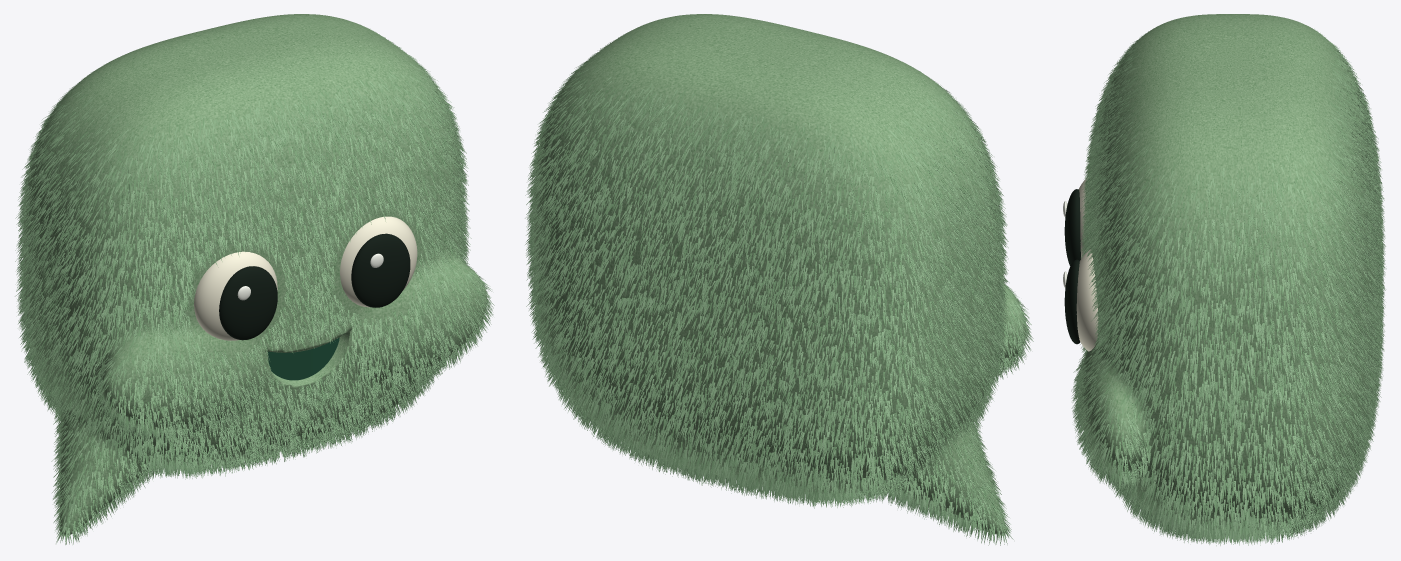
The model's file is mascot.glb.
3 renders of one model, left to right at view 1: azimuth 30°, elevation 25°; view 2: azimuth 150°, elevation 25°; view 3: azimuth 270°, elevation 25°, orthographic. The views are drawn at different scales.
Parts seen in each view (by area): view 1: Mascot • seamless body, Fur_Web, Pupil_R, Pupil_L, EyeWhite_L, EyeWhite_R, Smile; view 2: Mascot • seamless body, Fur_Web; view 3: Mascot • seamless body, Fur_Web, EyeWhite_R, Pupil_L, Pupil_R.
Boxes of the visible parts, bbox=[...] form: Mascot • seamless body: bbox=[23, 14, 487, 536]; Fur_Web: bbox=[15, 29, 494, 544]; Pupil_R: bbox=[351, 233, 410, 307]; Pupil_L: bbox=[219, 266, 277, 340]; EyeWhite_L: bbox=[194, 251, 277, 340]; EyeWhite_R: bbox=[340, 216, 417, 307]; Smile: bbox=[267, 337, 339, 380]; Mascot • seamless body: bbox=[534, 14, 1026, 535]; Fur_Web: bbox=[525, 31, 1033, 545]; Mascot • seamless body: bbox=[1079, 14, 1375, 531]; Fur_Web: bbox=[1071, 26, 1386, 545]; EyeWhite_R: bbox=[1076, 249, 1098, 351]; Pupil_L: bbox=[1064, 189, 1080, 265]; Pupil_R: bbox=[1064, 259, 1080, 344].
Size of the model in its own units: 2.13 by 2.16 by 1.33.
Materials: 12 (1 with a texture image).
